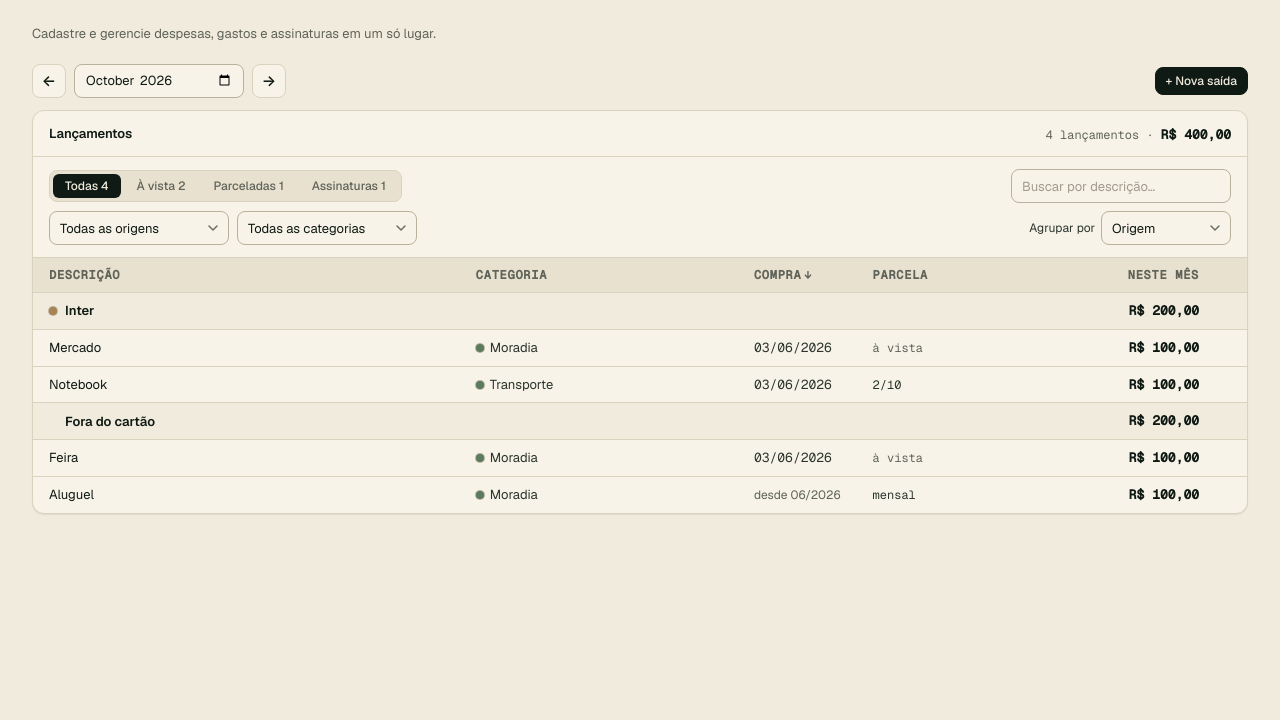
Test: SaidasPage — filtros (RF-DES-23) › filtro que esconde tudo diz isso e oferece limpar
Expected: the row "Mercado Moradia 03/06/2026 à vista R$ 100,00" is shown, [33,329,1247,366]
Type "xyz" into the search field named "Buscar saídas".
click(1121, 186); type("xyz")  # box [1011,169,1231,203]
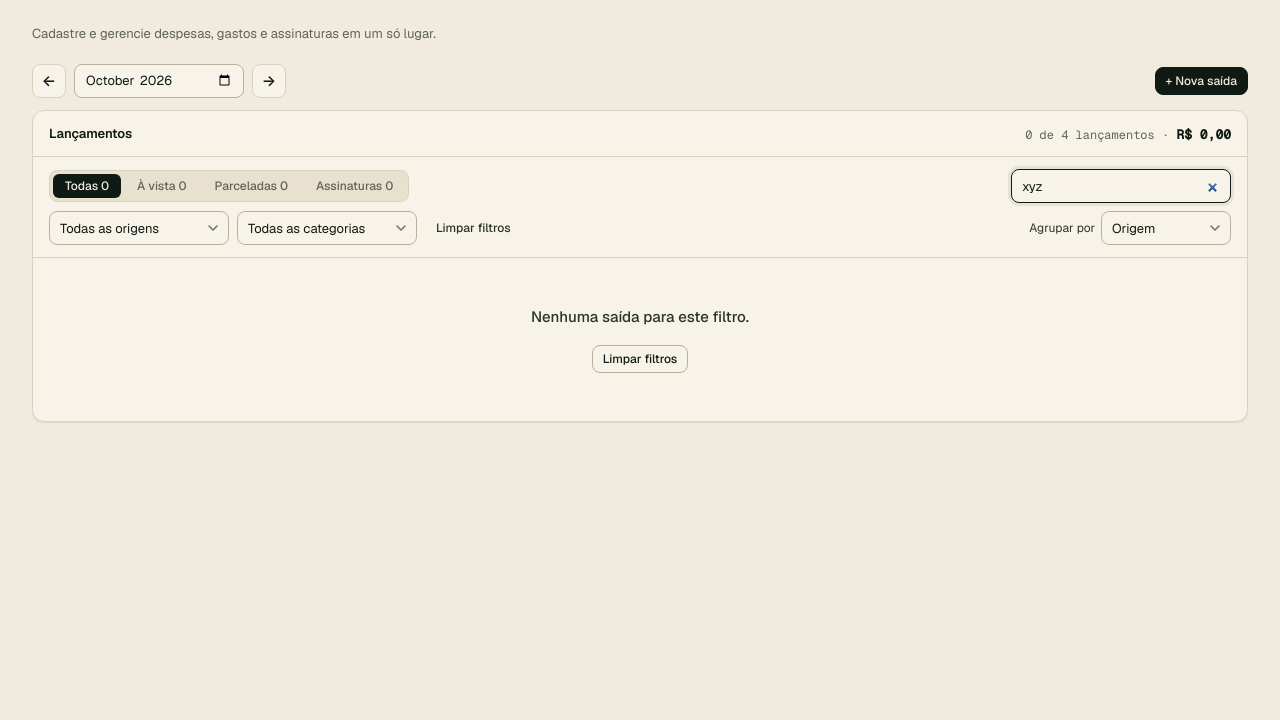
Click the button "Limpar filtros" below "Nenhuma saída para este filtro.".
click(640, 358)  # box [592,344,688,372]
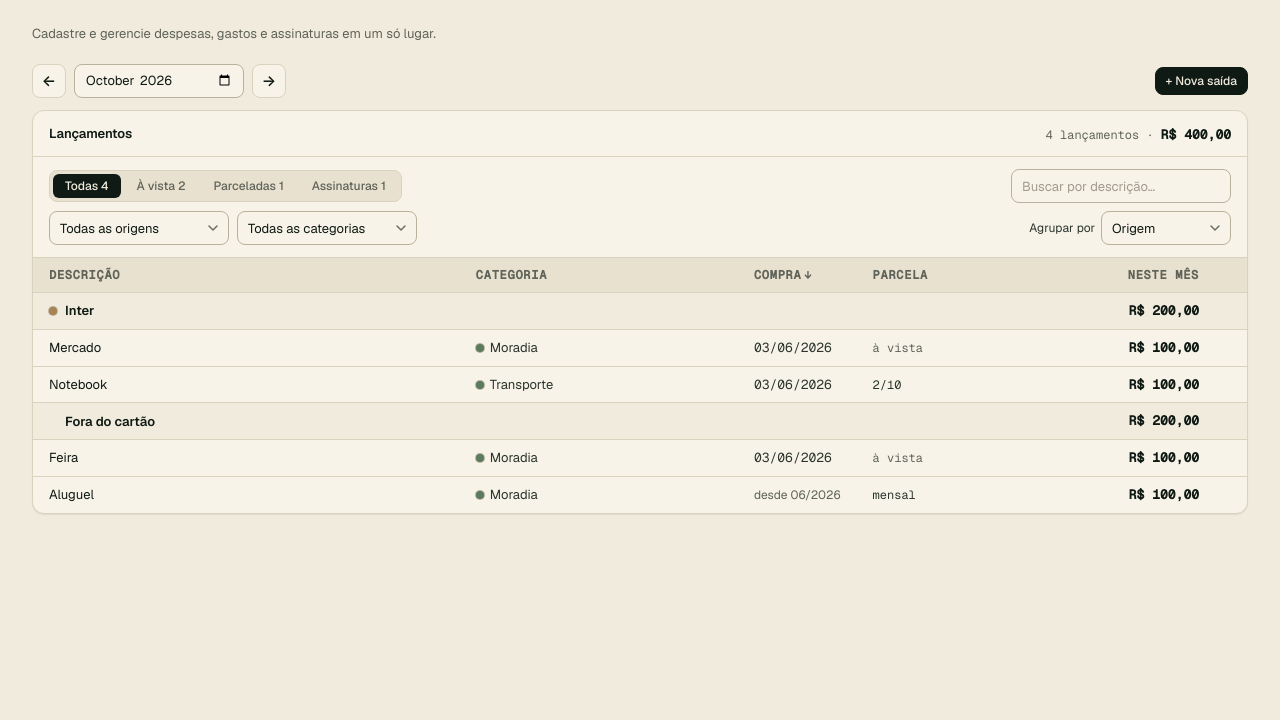
Expected: the row "Mercado Moradia 03/06/2026 à vista R$ 100,00" is shown, [33,329,1247,366]
